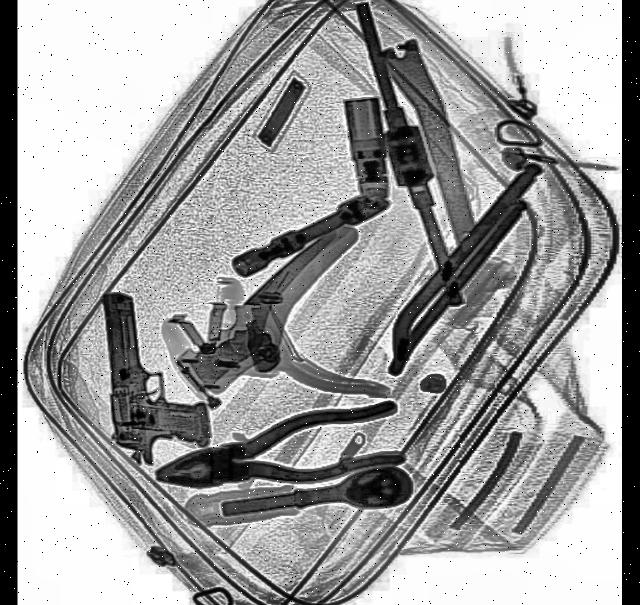Gun: (99, 280, 214, 471)
Pliers: (154, 400, 406, 512)
